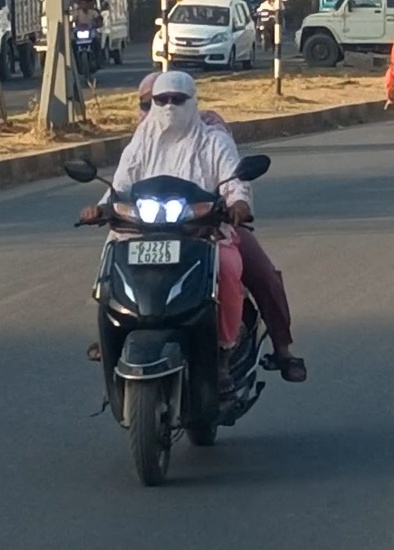BikeWithRider: (54, 64, 313, 492), (62, 0, 110, 82)
NoHelmet: (144, 66, 204, 133), (129, 67, 172, 125)
